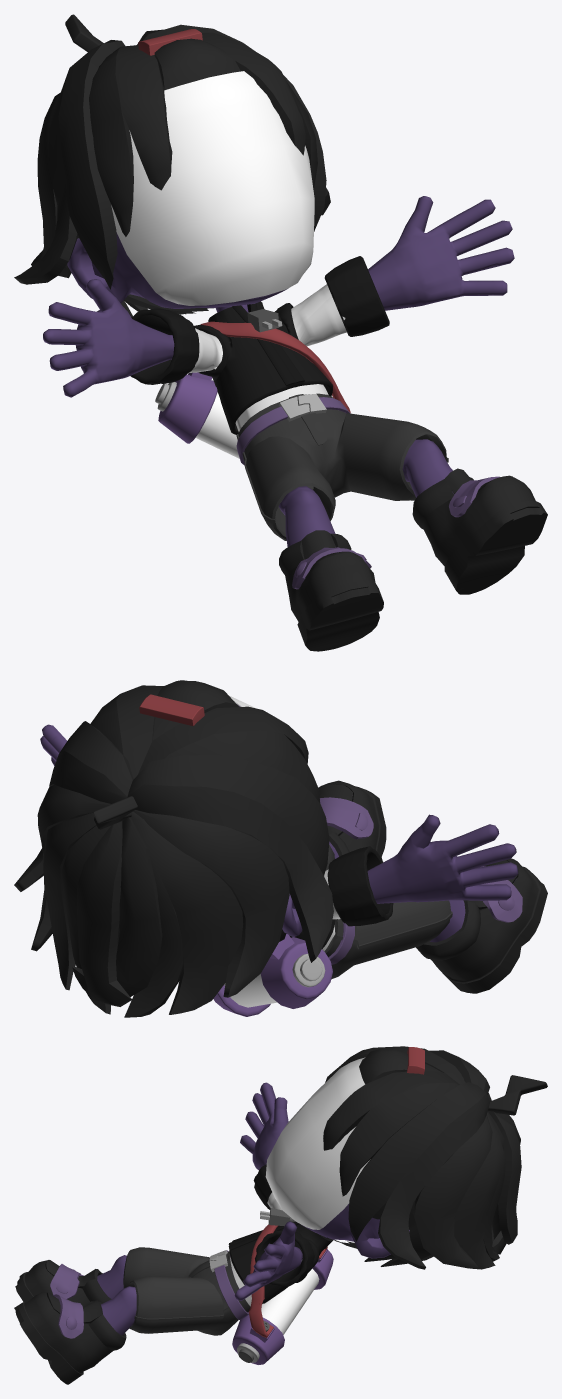
3 views of the same model, one above another, from view 1: azimuth 30°, elevation 25°; view 2: azimuth 150°, elevation 25°; view 3: azimuth 270°, elevation 25° (orthographic). The views are drawn at different scales.
Visible parts, largest first — view 1: pPlane3, body4, zubonn, hair_mae, hair_yoko, uwagi2, kutu_main_hidari, kutu_main_migi, uwagi1, polySurface1, hair_age, hair_usiro1 (+4 smaller); view 2: hair_yoko, hair_usiro2, hair_usiro1, body4, hair_mae, kutu_main_migi, hair_usiro4, hair_usiro5, hair_usiro3, polySurface1, zubonn, uwagi2 (+8 smaller); view 3: hair_yoko, pPlane3, hair_mae, body4, zubonn, hair_usiro1, kutu_main_hidari, polySurface1, hair_usiro2, hair_usiro4, uwagi2, uwagi1 (+12 smaller).
Part boxes in pixels (box(x1,y1,x2,y2)): pPlane3: box(111, 71, 314, 305); body4: box(43, 196, 514, 546); zubonn: box(236, 393, 448, 540); hair_mae: box(89, 32, 317, 236); hair_yoko: box(14, 24, 330, 289); uwagi2: box(130, 256, 389, 431); kutu_main_hidari: box(412, 476, 547, 594); kutu_main_migi: box(279, 533, 383, 651); uwagi1: box(194, 301, 332, 434); polySurface1: box(155, 372, 239, 458); hair_age: box(154, 38, 240, 89); hair_usiro1: box(31, 92, 60, 265); hair_yoko: box(14, 721, 333, 962); hair_usiro2: box(43, 811, 243, 1014); hair_usiro1: box(31, 785, 289, 997); body4: box(40, 704, 518, 942); hair_mae: box(90, 685, 320, 803); kutu_main_migi: box(416, 858, 547, 993); hair_usiro4: box(76, 821, 132, 1006); hair_usiro5: box(72, 817, 162, 1001); hair_usiro3: box(61, 817, 182, 1017); polySurface1: box(213, 934, 332, 1016); zubonn: box(324, 844, 452, 979); uwagi2: box(322, 846, 393, 951); hair_yoko: box(348, 1050, 489, 1269); pPlane3: box(265, 1057, 370, 1229); hair_mae: box(323, 1046, 465, 1196); body4: box(97, 1082, 409, 1335); zubonn: box(123, 1247, 250, 1335); hair_usiro1: box(413, 1093, 492, 1268); kutu_main_hidari: box(14, 1292, 126, 1384); polySurface1: box(232, 1249, 333, 1364); hair_usiro2: box(454, 1112, 503, 1269); hair_usiro4: box(488, 1111, 521, 1244); uwagi2: box(230, 1164, 314, 1306); uwagi1: box(228, 1221, 333, 1303).
Size of the model in its own units: 71.21 by 63.78 by 94.38.
